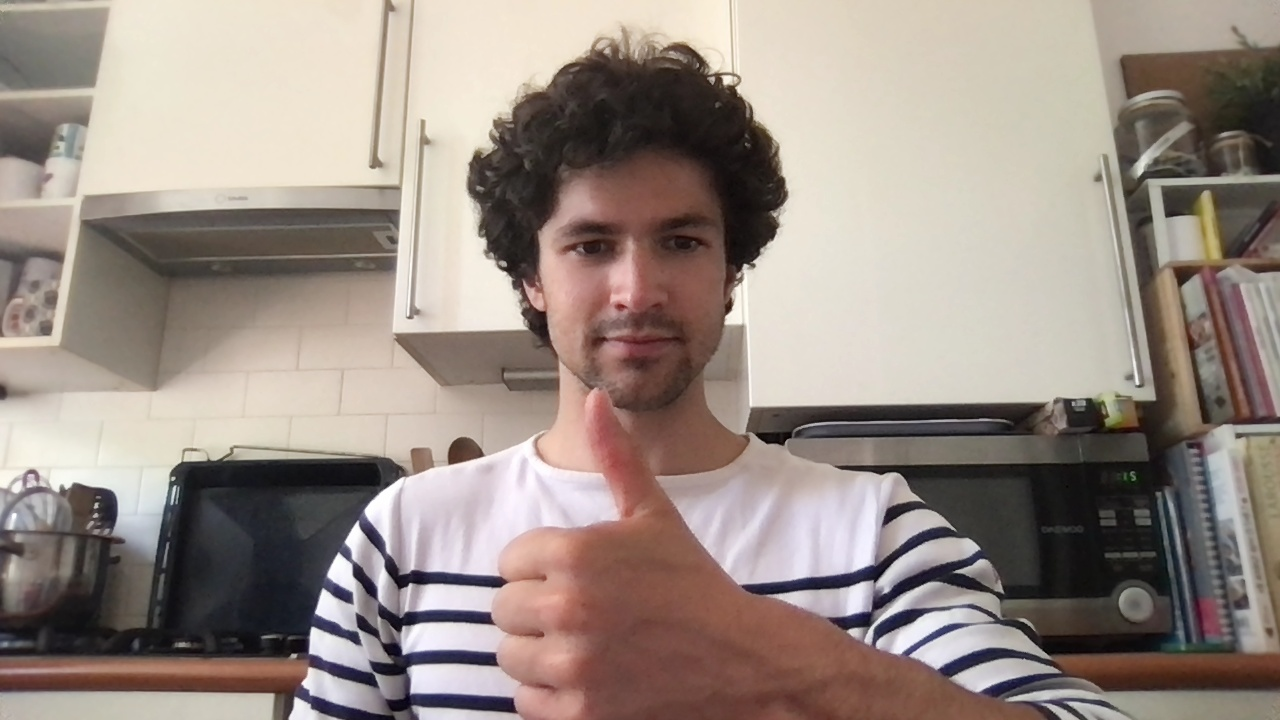thumbUp: (492, 386, 752, 720)
